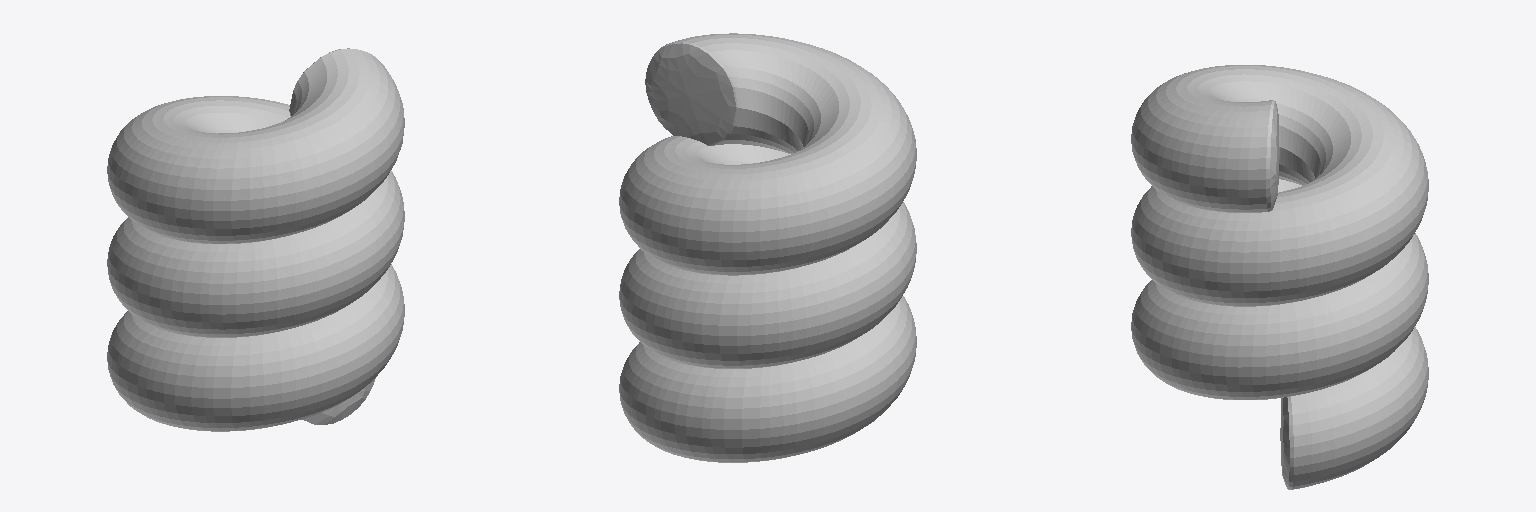
Rendered from helix_70.0.obj.
3 renders of one model, left to right at view 1: azimuth 30°, elevation 25°; view 2: azimuth 150°, elevation 25°; view 3: azimuth 270°, elevation 25°, orthographic.
Visible parts, largest first — view 1: helix:pHelix1; view 2: helix:pHelix1; view 3: helix:pHelix1.
Boxes of the visible parts, x1,y1,x2,y2 form: helix:pHelix1: [107, 48, 404, 431]; helix:pHelix1: [619, 33, 916, 462]; helix:pHelix1: [1131, 65, 1428, 489].
Bounding box in the file's own units: 1.92 × 2.71 × 1.92.